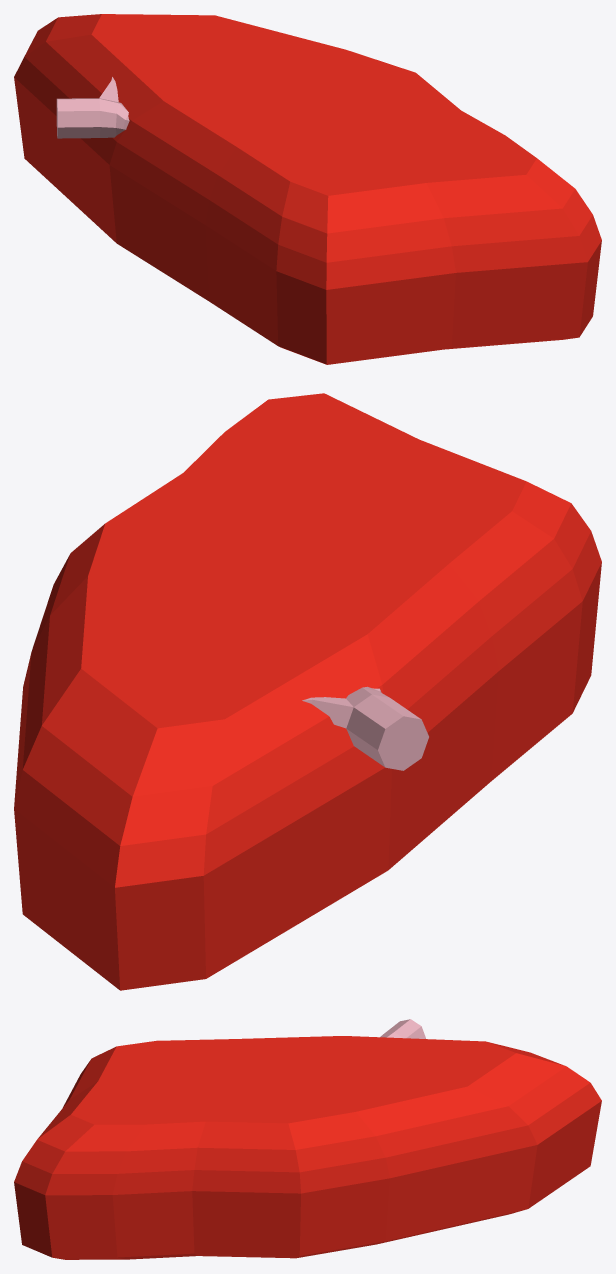
The model's file is lungArena.fbx.
The picture shows the model from 3 angles, top to bottom: view 1: azimuth 30°, elevation 25°; view 2: azimuth 150°, elevation 25°; view 3: azimuth 270°, elevation 25°; orthographic projection. The views are drawn at different scales.
Parts seen in each view (by area): view 1: Cube, Cylinder; view 2: Cube, Cylinder; view 3: Cube, Cylinder.
Part boxes in pixels (bbox=[...]): Cube: bbox=[14, 14, 601, 364]; Cylinder: bbox=[56, 77, 129, 138]; Cube: bbox=[14, 393, 601, 990]; Cylinder: bbox=[302, 686, 428, 770]; Cube: bbox=[14, 1036, 601, 1259]; Cylinder: bbox=[380, 1019, 425, 1038].
Bounding box in the file's own units: 2676 × 1189 × 5001.
